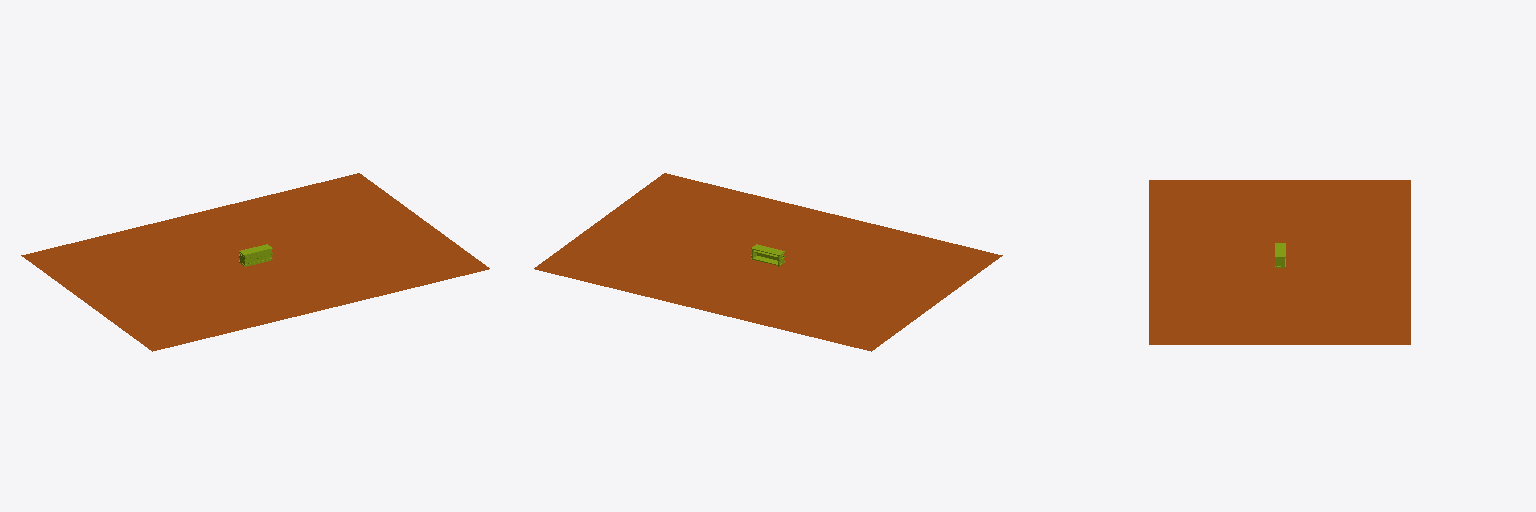
File: table.obj
3 renders of one model, left to right at view 1: azimuth 30°, elevation 25°; view 2: azimuth 150°, elevation 25°; view 3: azimuth 270°, elevation 25°, orthographic.
Parts seen in each view (by area): view 1: Plane_Floor_White; view 2: Plane_Floor_White; view 3: Plane_Floor_White.
Part boxes in pixels (x1,y1,x2,y2): Plane_Floor_White: (21,173,489,351); Plane_Floor_White: (534,173,1002,351); Plane_Floor_White: (1149,180,1410,344).
Bounding box in the file's own units: 832 × 29.73 × 559.